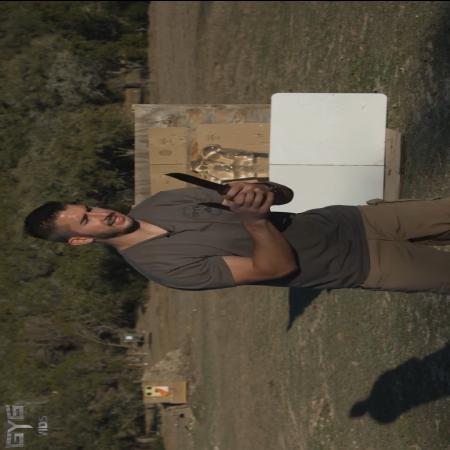long weapon: (152, 165, 258, 206)
